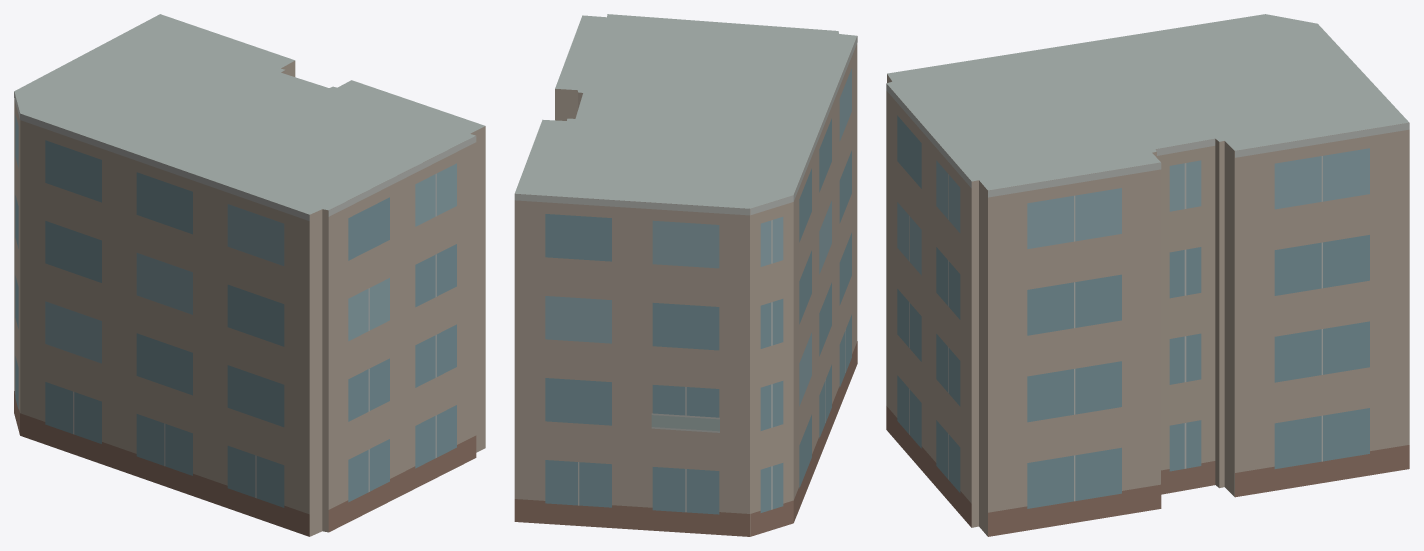
The model's file is survey-upis-32834952.glb.
3 renders of one model, left to right at view 1: azimuth 30°, elevation 25°; view 2: azimuth 150°, elevation 25°; view 3: azimuth 270°, elevation 25°, orthographic. The views are drawn at different scales.
Parts seen in each view (by area): view 1: survey-upis-32834952.tmp; view 2: survey-upis-32834952.tmp; view 3: survey-upis-32834952.tmp.
Part boxes in pixels (x1,y1,x2,y2): survey-upis-32834952.tmp: [14, 14, 485, 536]; survey-upis-32834952.tmp: [514, 14, 857, 536]; survey-upis-32834952.tmp: [886, 14, 1409, 536].
Size of the model in its own units: 13.13 by 12 by 16.43.
